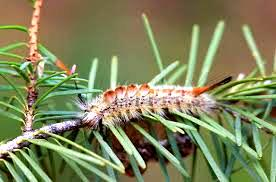Caterpillar: (86, 80, 216, 117)
